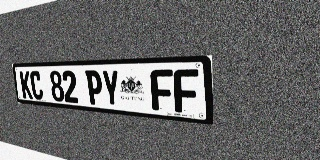2: (62, 70, 78, 103)
8: (49, 71, 65, 102)
C: (29, 71, 44, 100)
F: (173, 69, 199, 114), (150, 69, 174, 112)
K: (19, 71, 33, 99)
P: (85, 70, 104, 105)
Y: (101, 70, 121, 107)
